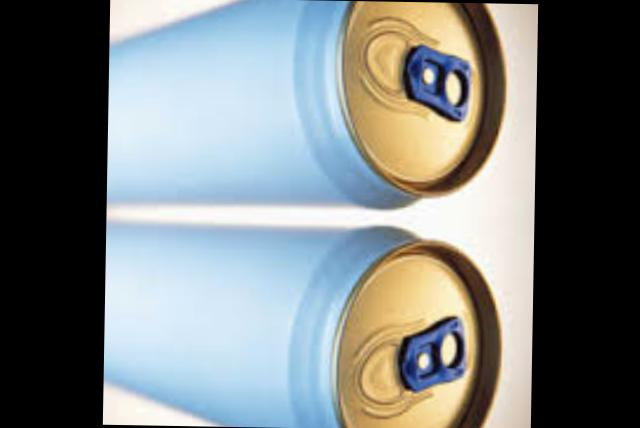metal: (108, 220, 504, 428), (106, 0, 504, 206)
